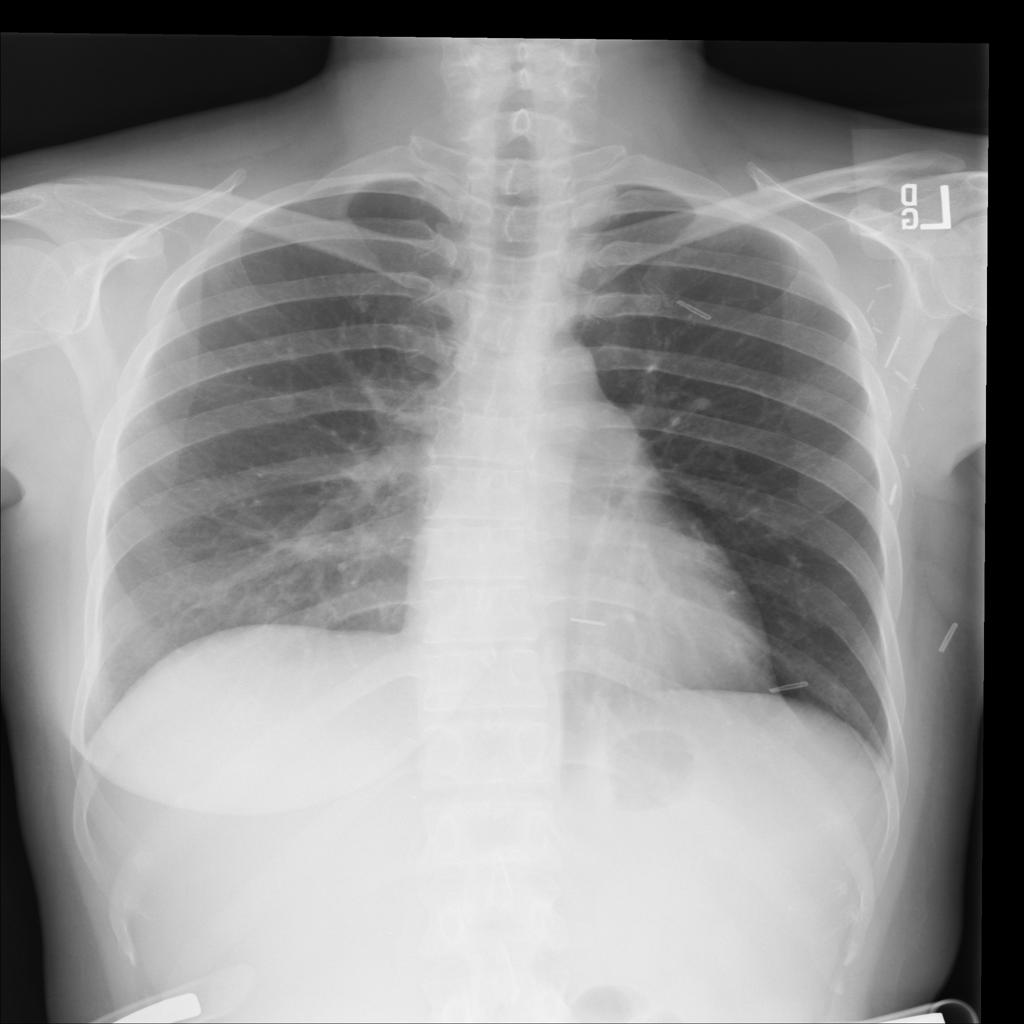nodule: (254, 378, 310, 424)
